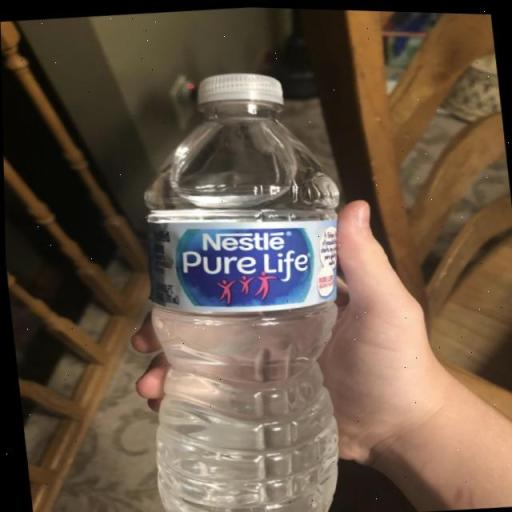plastic: (110, 60, 372, 512)
